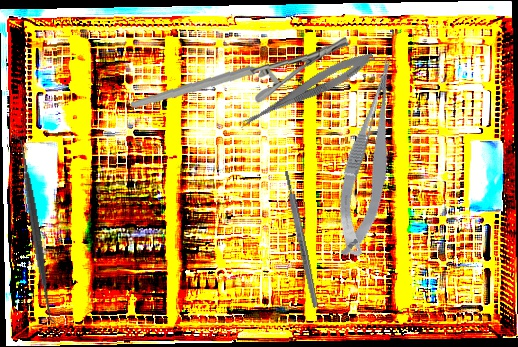Micro Scissor: (320, 53, 422, 262), (235, 45, 378, 138)
Needle Holder: (131, 26, 349, 119)
Scalpel Handle: (282, 169, 320, 309)
Spatula Surgical: (9, 132, 61, 325)
